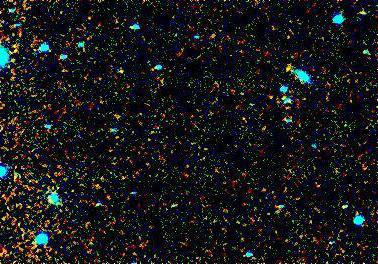star: (274, 54, 304, 84)
